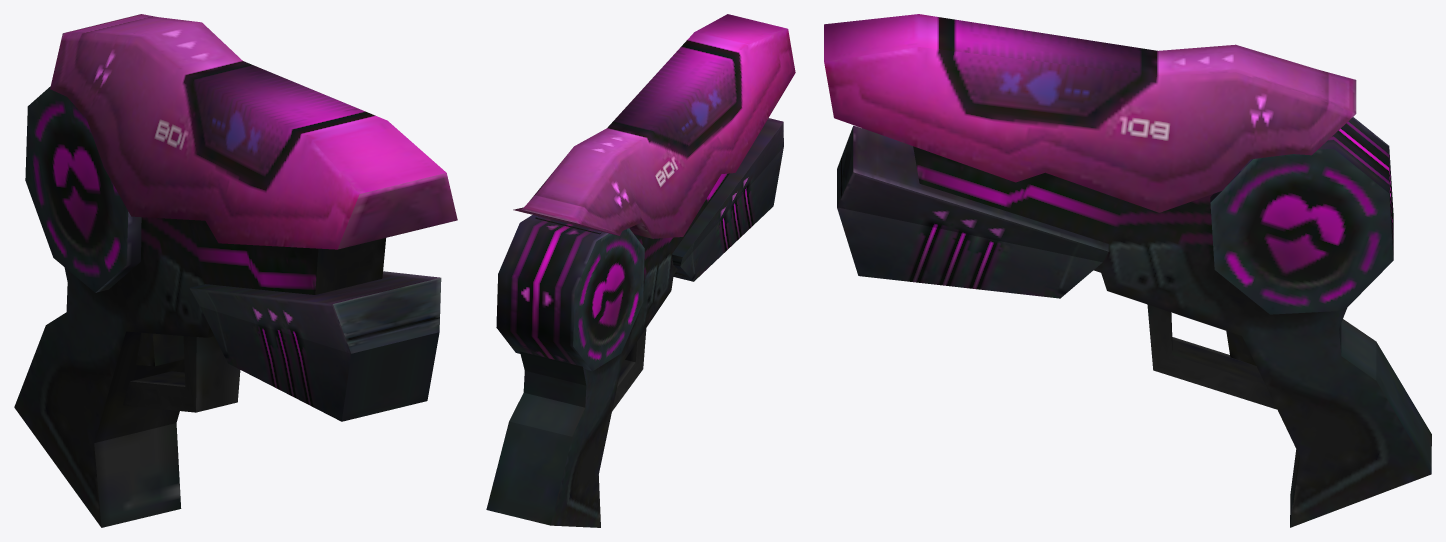
File: Skill_Dortor_01_01_617e289e__Skill_Doctor_01_799a6bb5_c1f257.obj
3 renders of one model, left to right at view 1: azimuth 30°, elevation 25°; view 2: azimuth 150°, elevation 25°; view 3: azimuth 270°, elevation 25°, orthographic. The views are drawn at different scales.
Bounding box in the file's own units: 0.2006 × 0.632 × 0.7259.
1 material, 1 textured.
